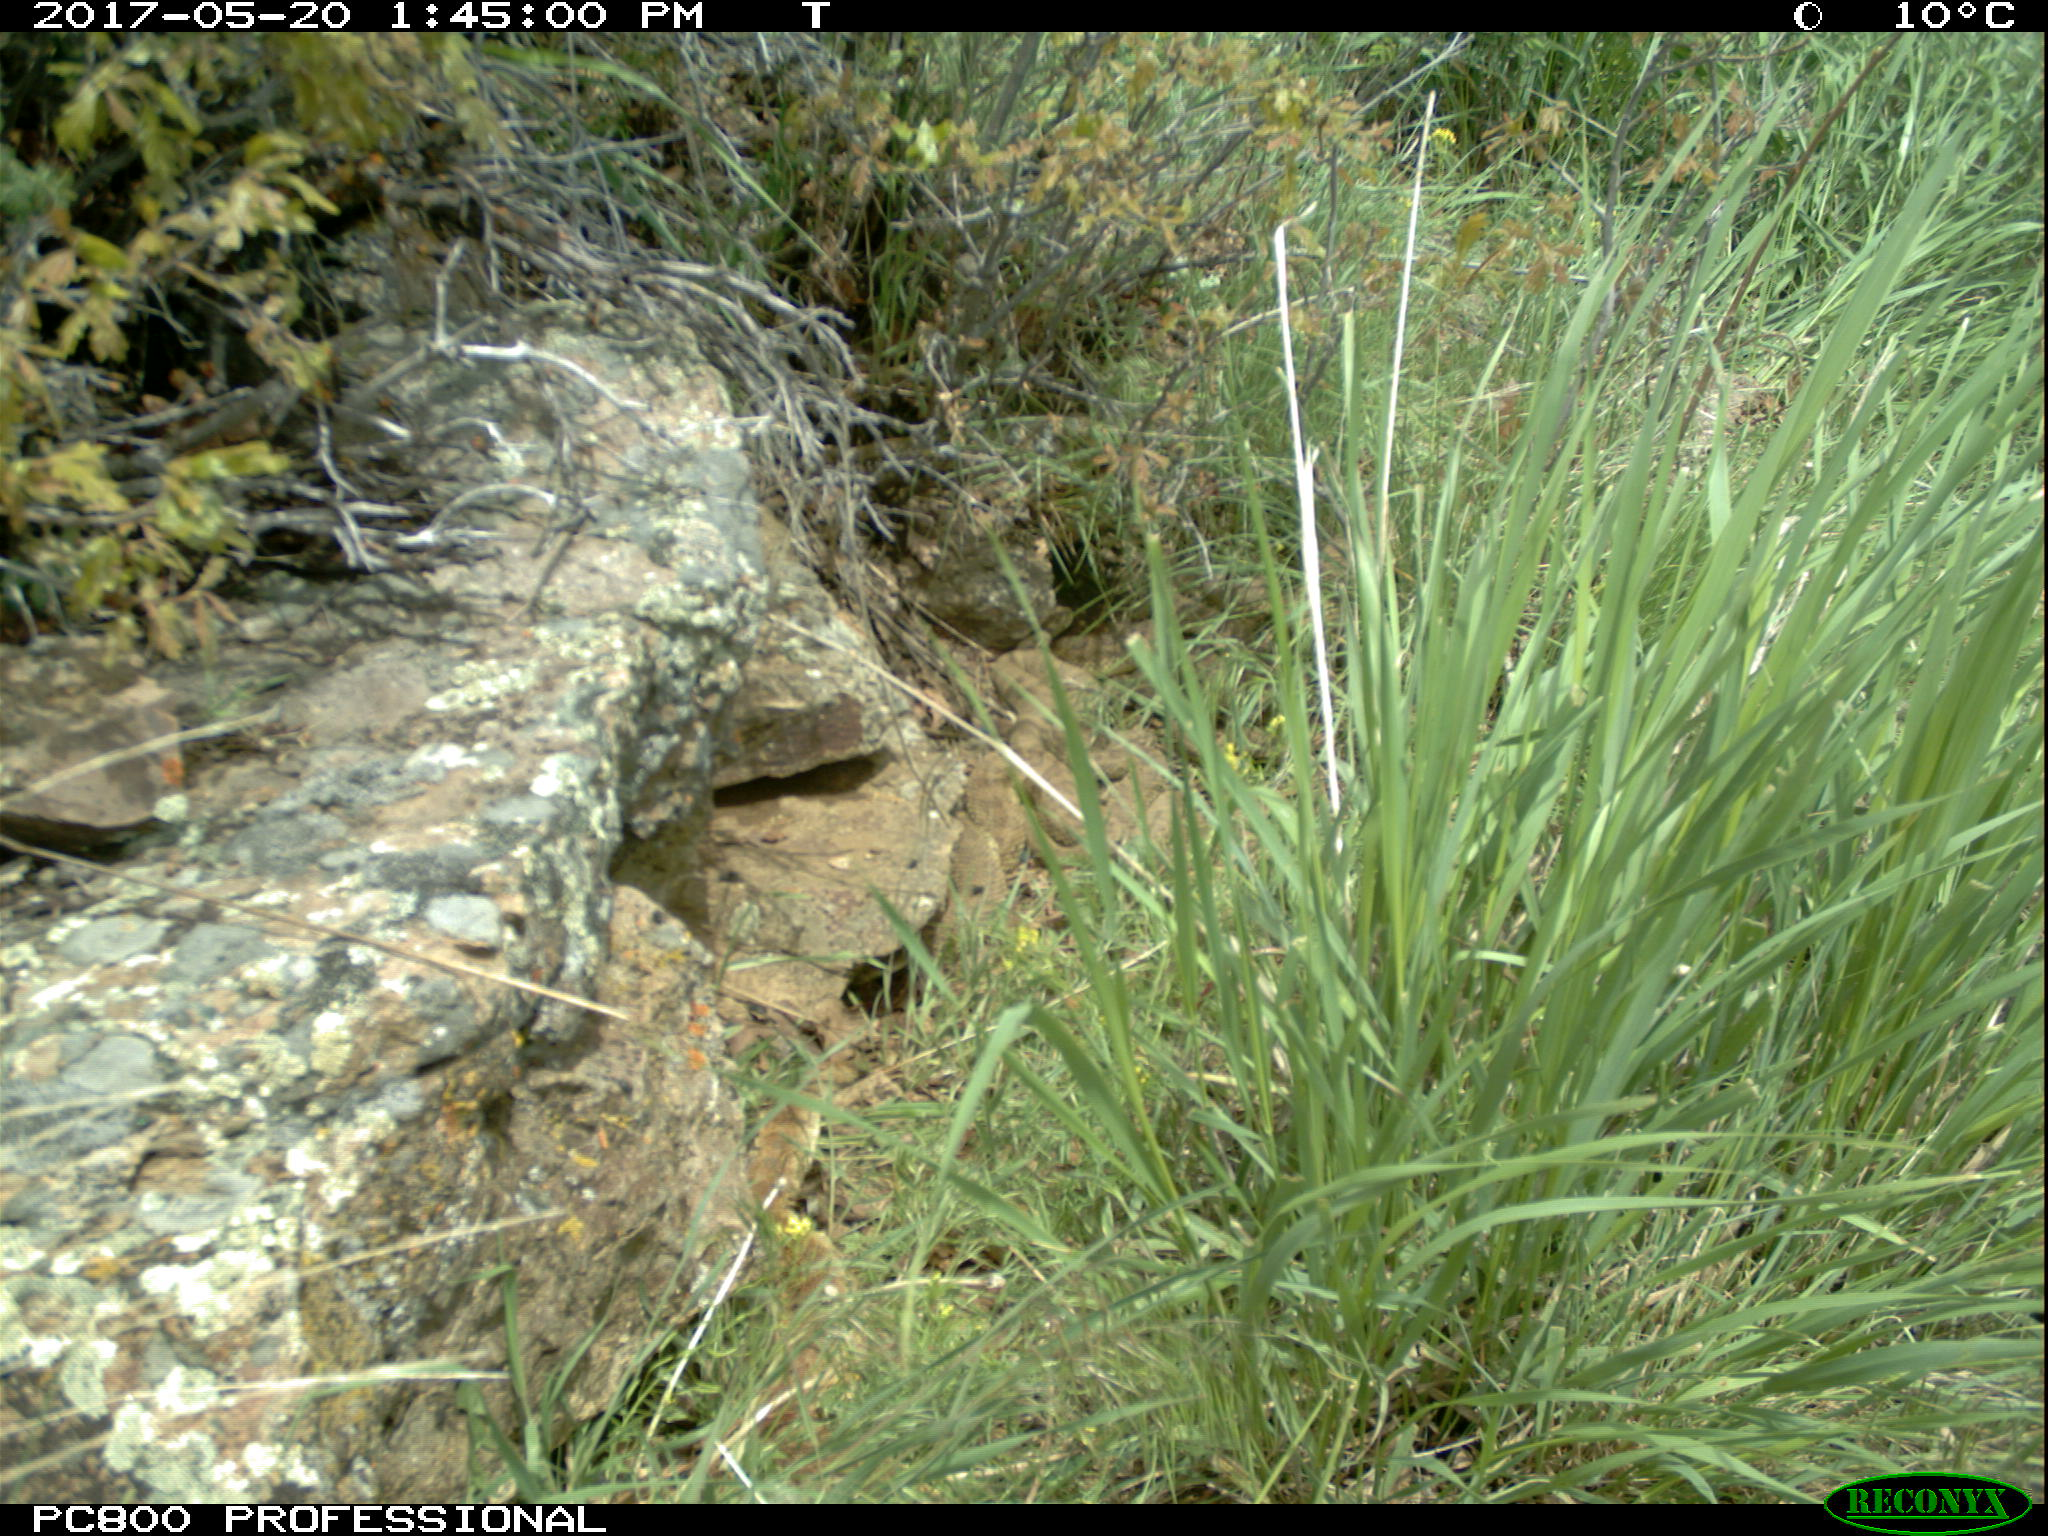snake: (742, 1079, 856, 1426), (943, 744, 1214, 862), (942, 741, 1034, 912), (997, 645, 1109, 753)
